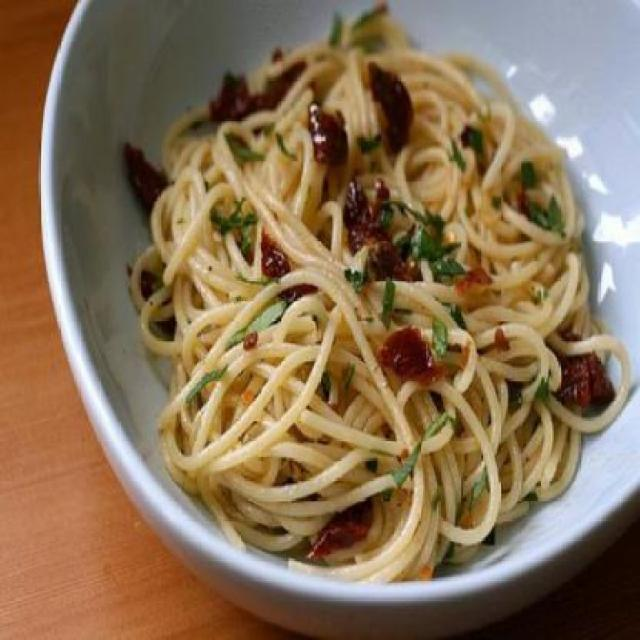Oil pasta: (142, 14, 613, 557)
